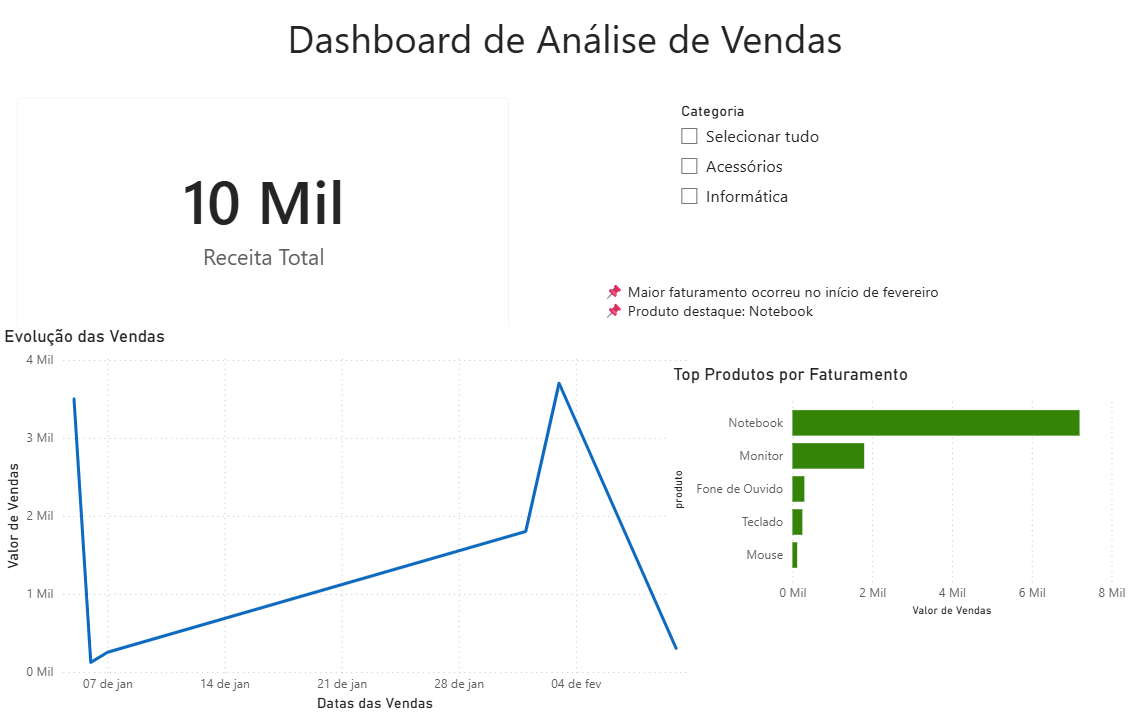

Layout of this report page (visuals, bound fields, positions):
{"tool":"powerbi","page":{"name":"Página 1","canvas":[1280,720],"ordinal":0},"visuals":[{"type":"cardVisual","fields":{"Data":["vendas.Receita Total"]},"box":[0,83.6,513.6,259.7],"z":0},{"type":"lineChart","title":"Evolução das Vendas","fields":{"Y":["Sum(vendas.valor)"],"Category":["vendas.data_venda"]},"box":[0,322.9,688.6,379.3],"z":2},{"type":"clusteredBarChart","title":"Top Produtos por Faturamento","fields":{"Category":["vendas.produto"],"Y":["Sum(vendas.valor)"]},"box":[650.7,359.9,450.3,250],"z":3},{"type":"slicer","fields":{"Values":["vendas.categoria"]},"box":[650.7,100.2,287.9,161.5],"z":4},{"type":"textbox","box":[0,12.6,1101,87.5],"z":5},{"type":"textbox","box":[583.6,274.3,376.4,69.1],"z":6}]}

Visuals, with their boxes on the page's 1280x720 design canvas (x1, y1, x2, y2). These are canvas units, not pixel positions in the 1137x720 screenshot, which may show the page scaled, cropped or inside an application window:
cardVisual - vendas.Receita Total: {"left": 0, "top": 84, "right": 514, "bottom": 343}
"Evolução das Vendas" lineChart: {"left": 0, "top": 323, "right": 689, "bottom": 702}
"Top Produtos por Faturamento" clusteredBarChart: {"left": 651, "top": 360, "right": 1101, "bottom": 610}
slicer - vendas.categoria: {"left": 651, "top": 100, "right": 939, "bottom": 262}
textbox: {"left": 0, "top": 13, "right": 1101, "bottom": 100}
textbox: {"left": 584, "top": 274, "right": 960, "bottom": 343}
